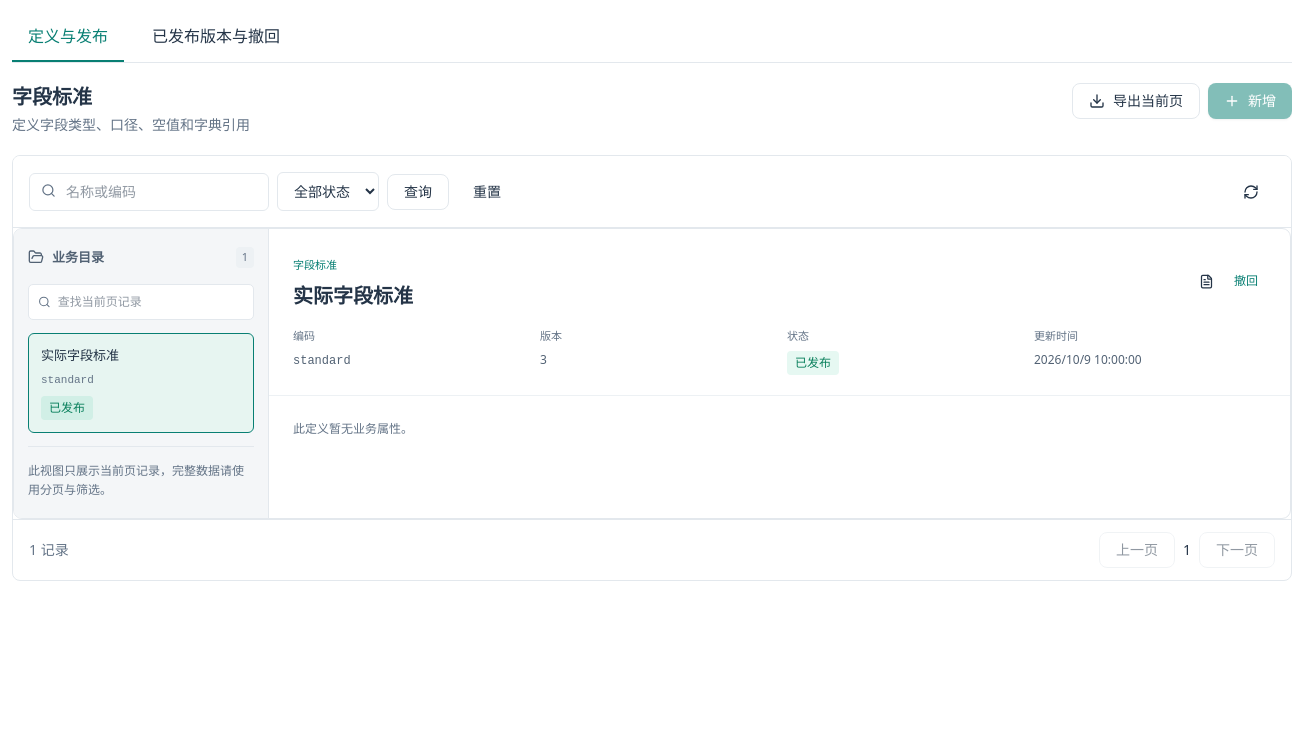
Test: Immutable standard publication revisions › navigates the definition withdrawal action to actual revision selection instead of a generic dialog
Click the button "撤回": (1246,281) [1226,267,1266,295]
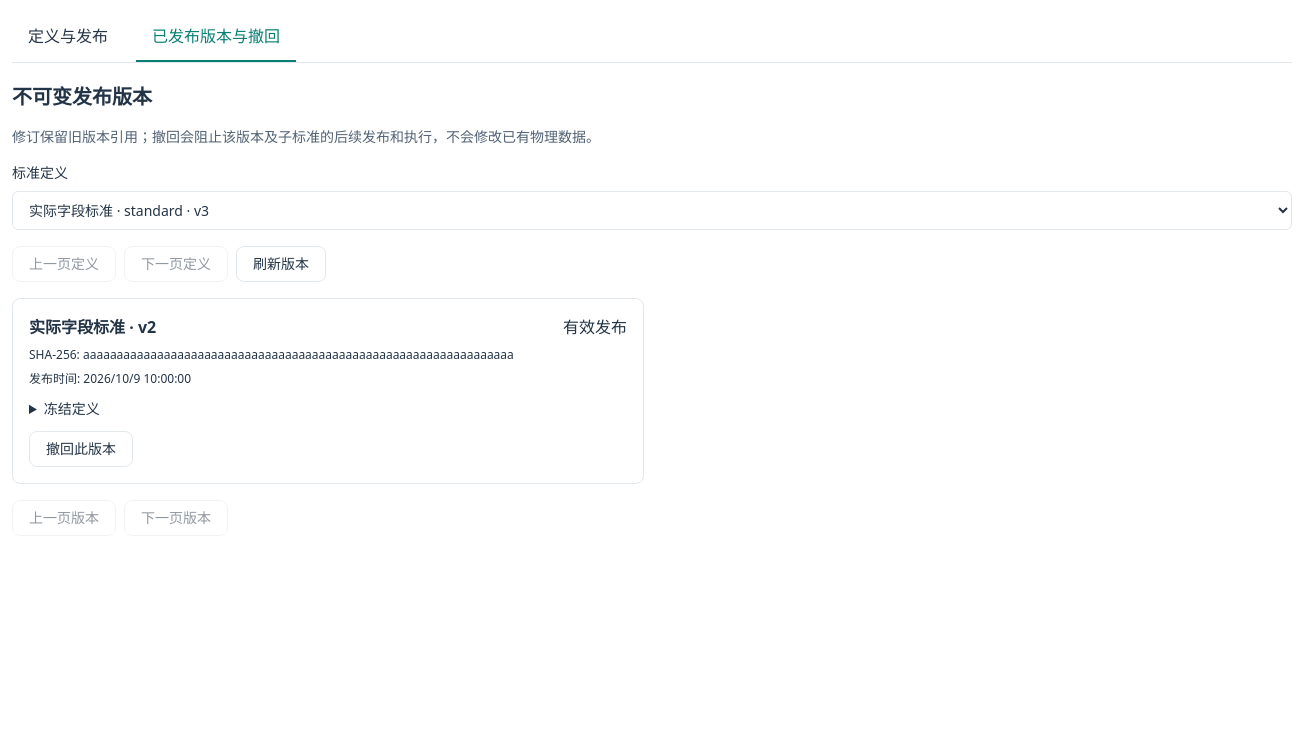
Now the heading "实际字段标准 · v2" is shown, box [29,315,156,339]
